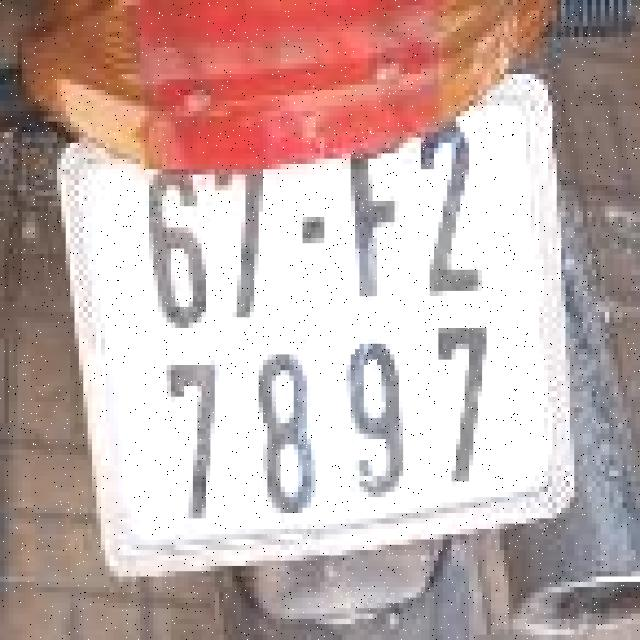2: (412, 109, 495, 304)
6: (129, 145, 213, 336)
7: (425, 310, 509, 505), (149, 338, 228, 545), (213, 124, 287, 336)
8: (248, 344, 326, 529)
9: (335, 312, 423, 508)
F: (344, 119, 410, 309)
